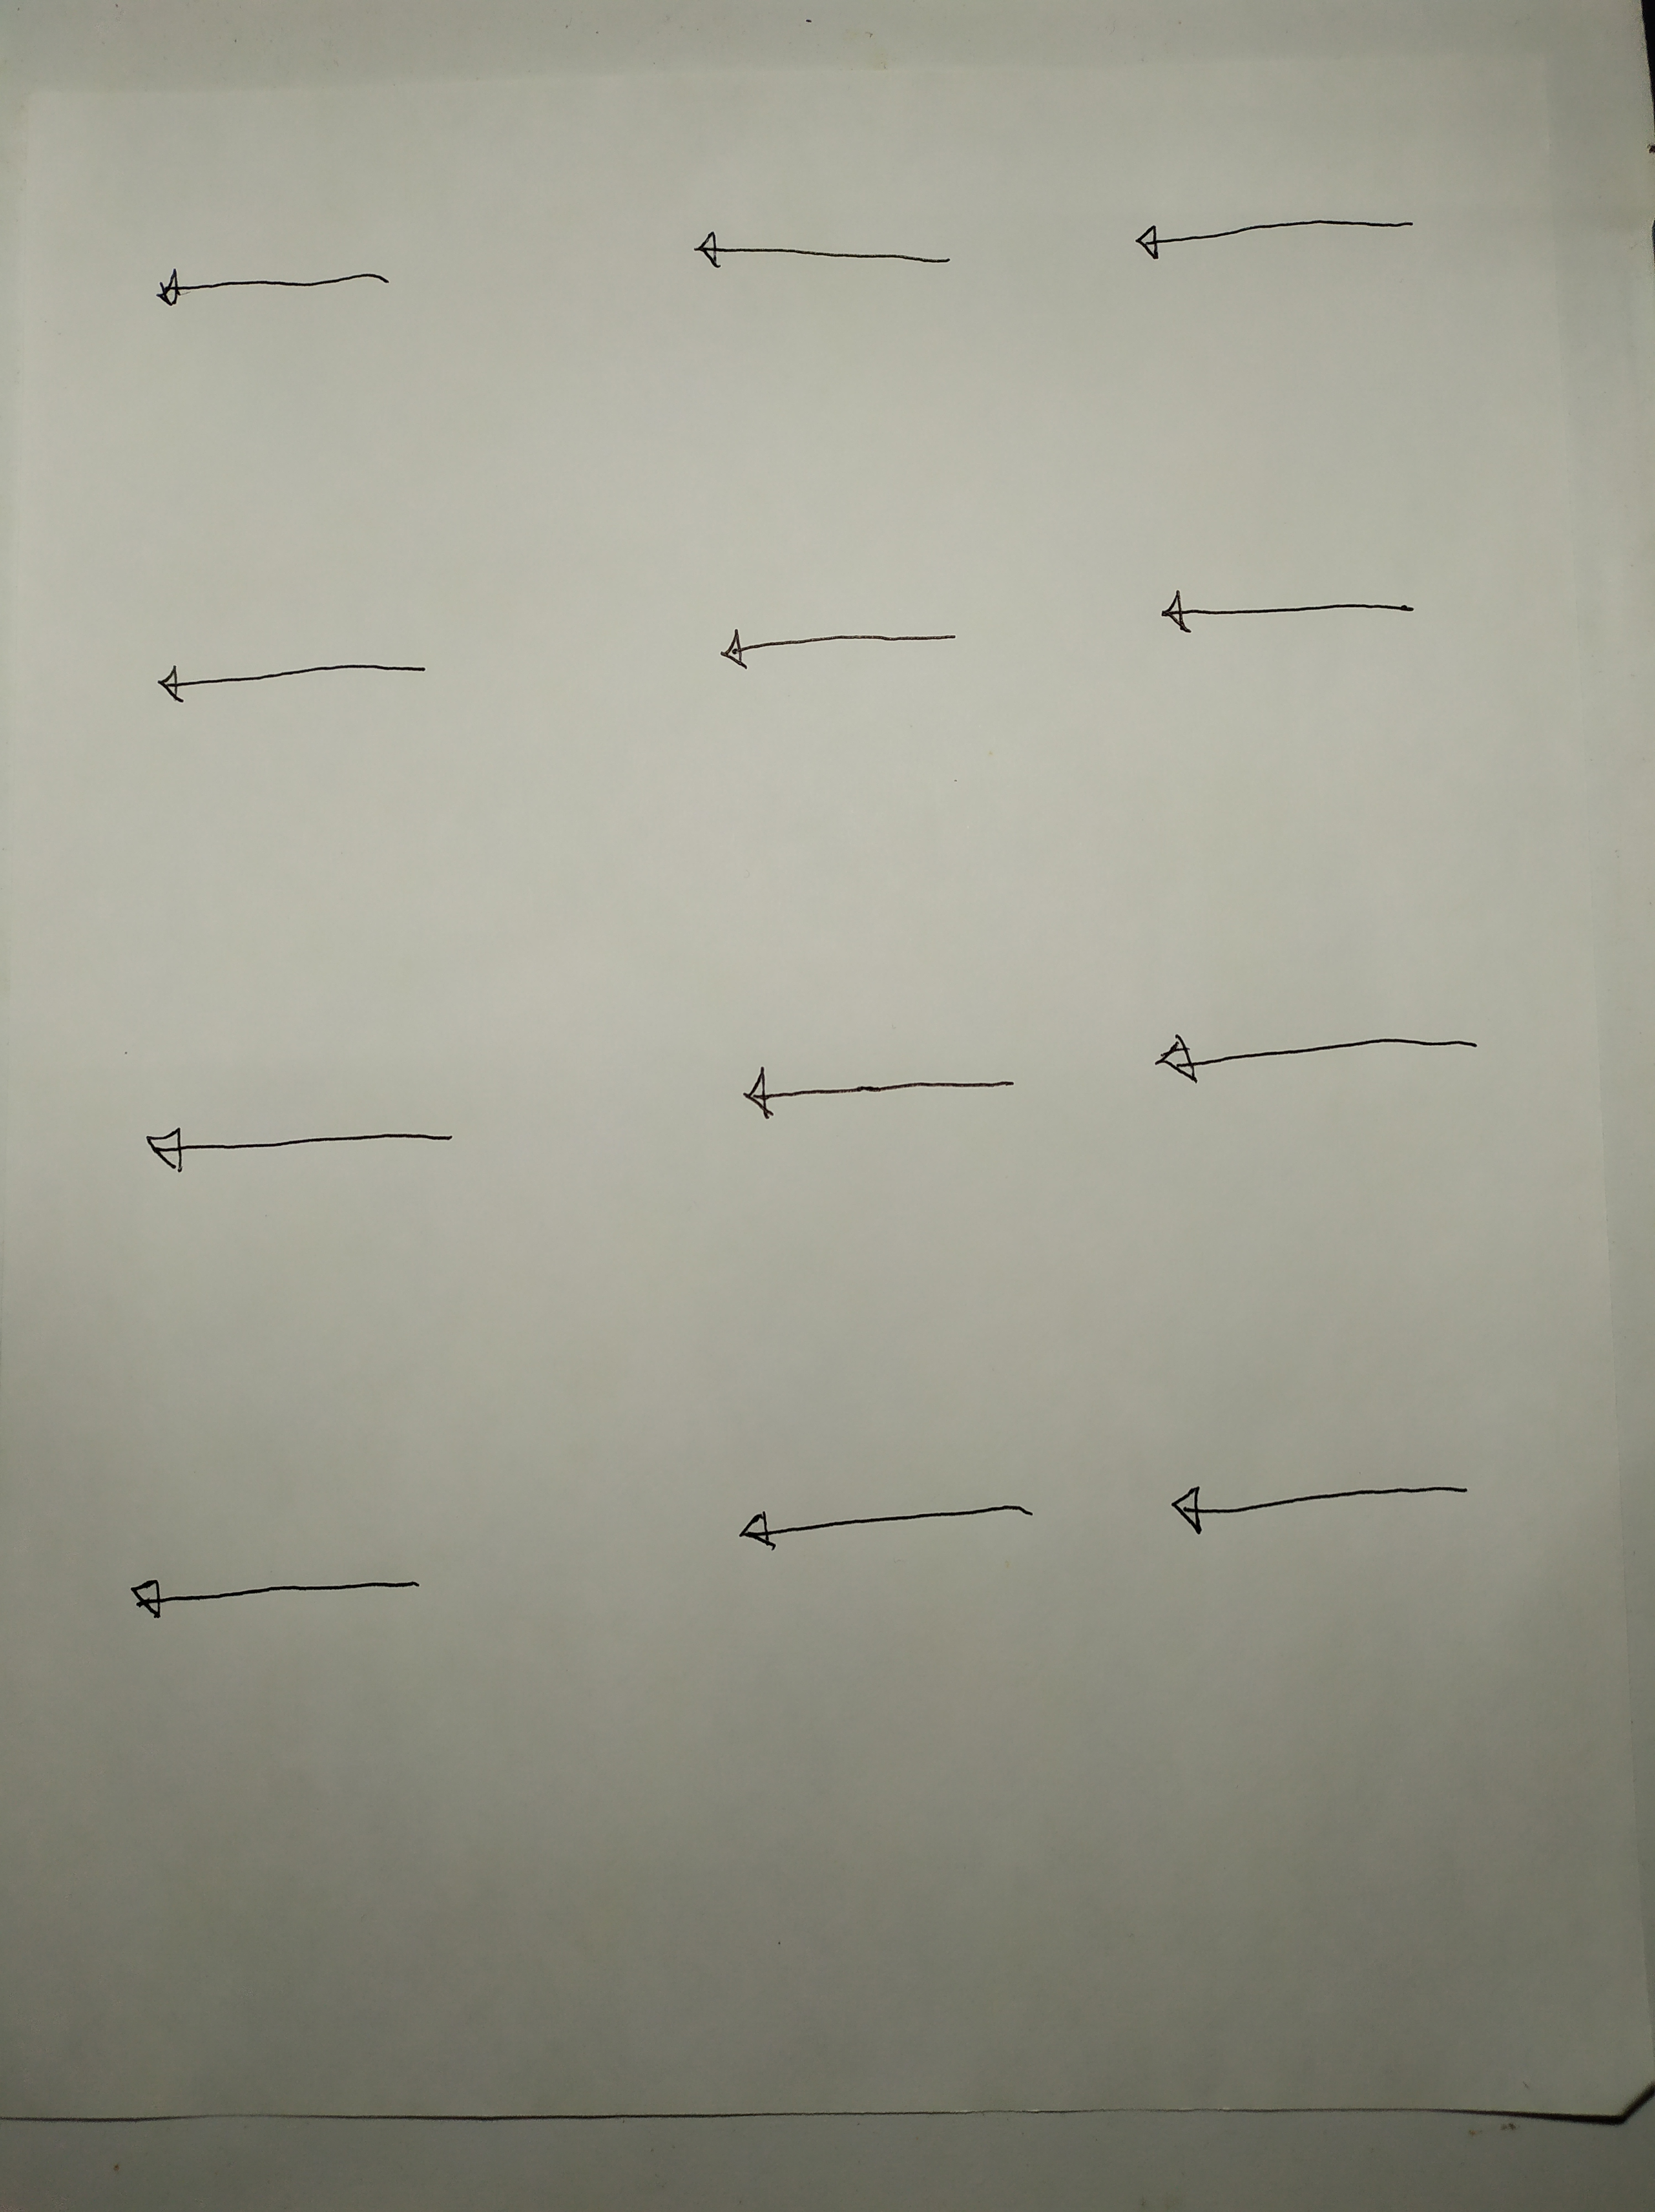arrow_line_left: (94, 1543, 473, 1647), (702, 1482, 1092, 1583), (125, 235, 455, 349), (1160, 1454, 1521, 1559), (113, 1103, 502, 1192), (694, 1046, 1055, 1138), (666, 205, 980, 304), (1139, 1020, 1507, 1098), (1097, 198, 1452, 276), (1123, 573, 1453, 657), (125, 641, 468, 719), (692, 613, 991, 699)
